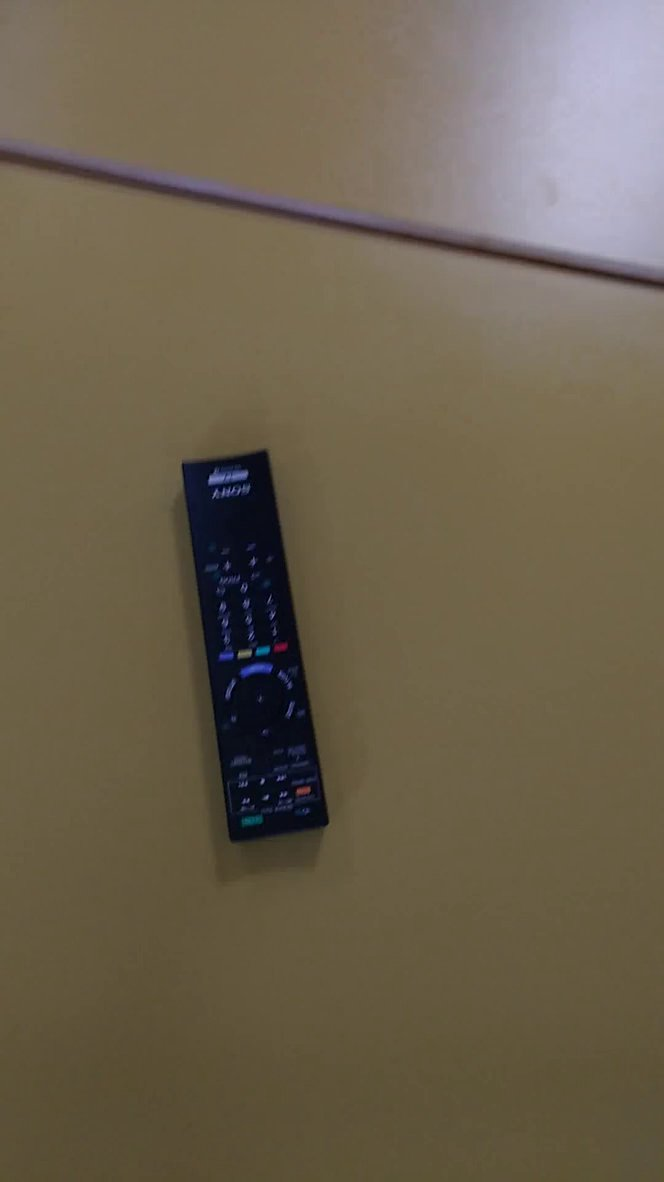remote: (171, 434, 359, 875)
